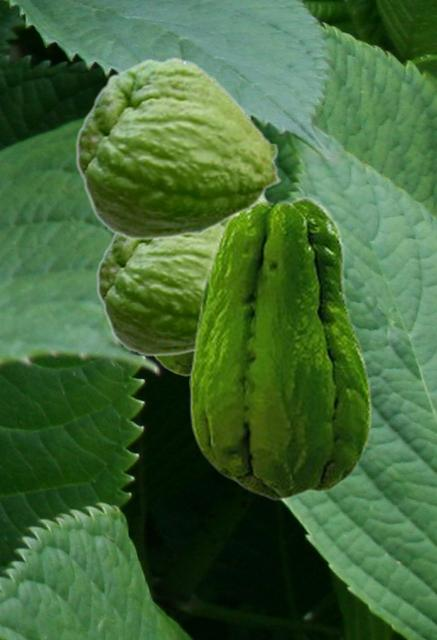sayote: (189, 195, 371, 500), (75, 56, 282, 240), (151, 110, 269, 377), (96, 225, 220, 356)
